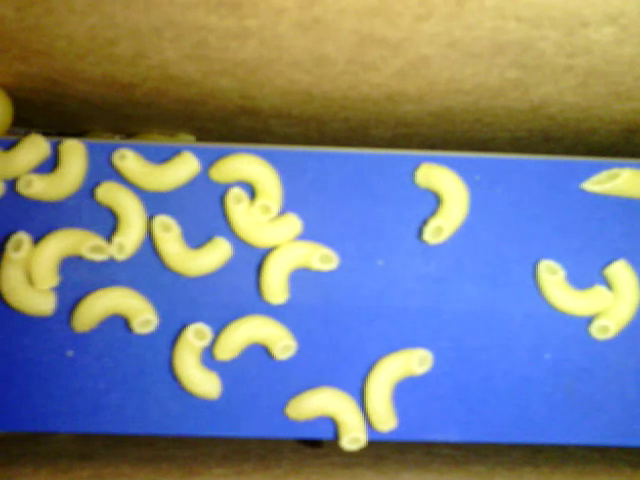elbow: (360, 347, 437, 434), (285, 384, 371, 453), (222, 187, 304, 252), (258, 241, 341, 305), (25, 227, 107, 291), (205, 153, 282, 221), (153, 214, 233, 278), (536, 256, 616, 318), (2, 231, 57, 320), (66, 284, 161, 335), (210, 314, 299, 366), (416, 162, 473, 243), (16, 139, 87, 202), (93, 180, 145, 264), (169, 321, 224, 400), (588, 256, 637, 344), (110, 147, 201, 193), (2, 129, 51, 188)
penne: (572, 168, 639, 199)
